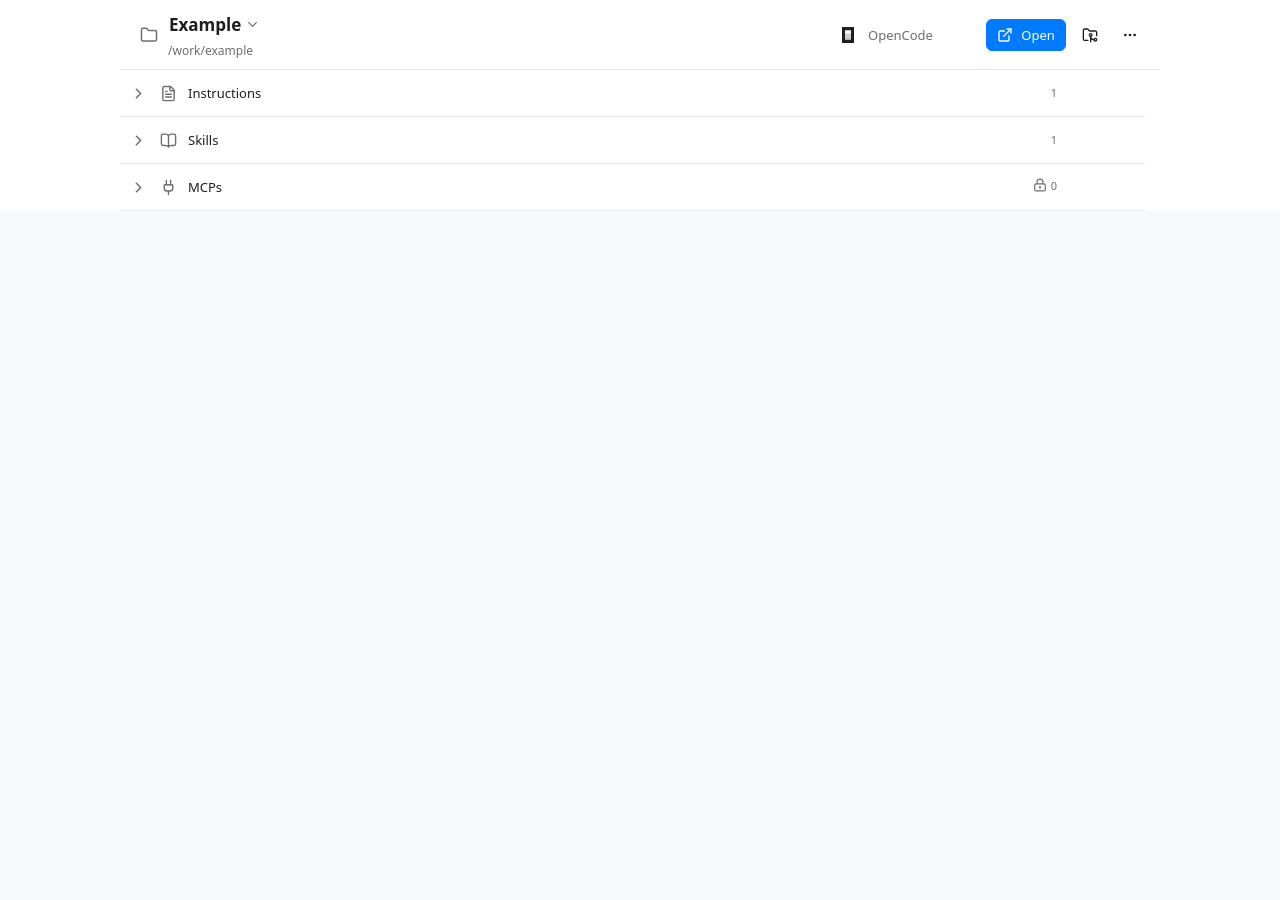
Test case: ProjectsWorkspace › opens the same Project actions from a row context menu and dismisses with Escape
Click the button with aria-label "Choose Workspace" at (216, 24), box [168,10,264,38]
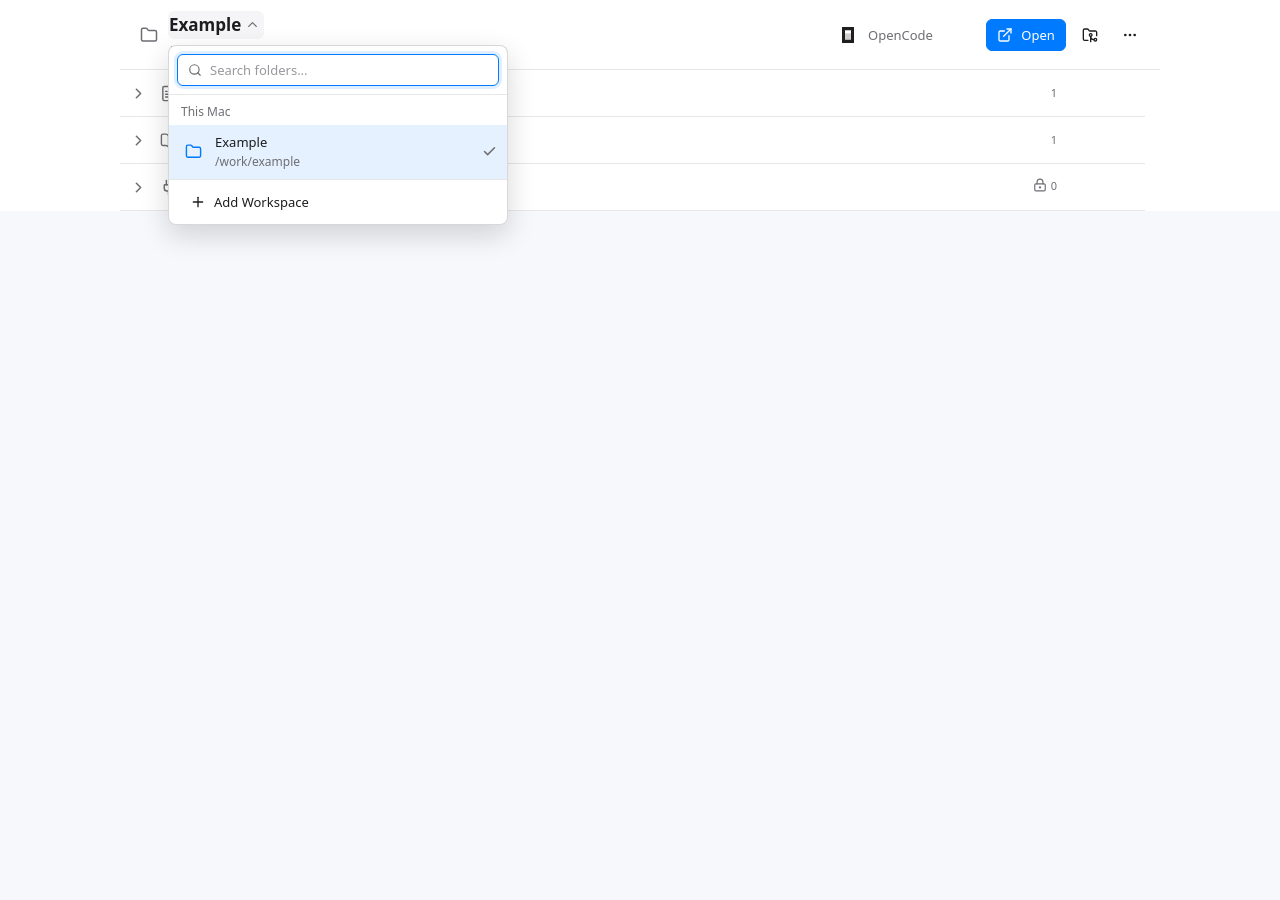
Right-click the option "Example /work/example" at (241, 142), box [169,124,507,178]
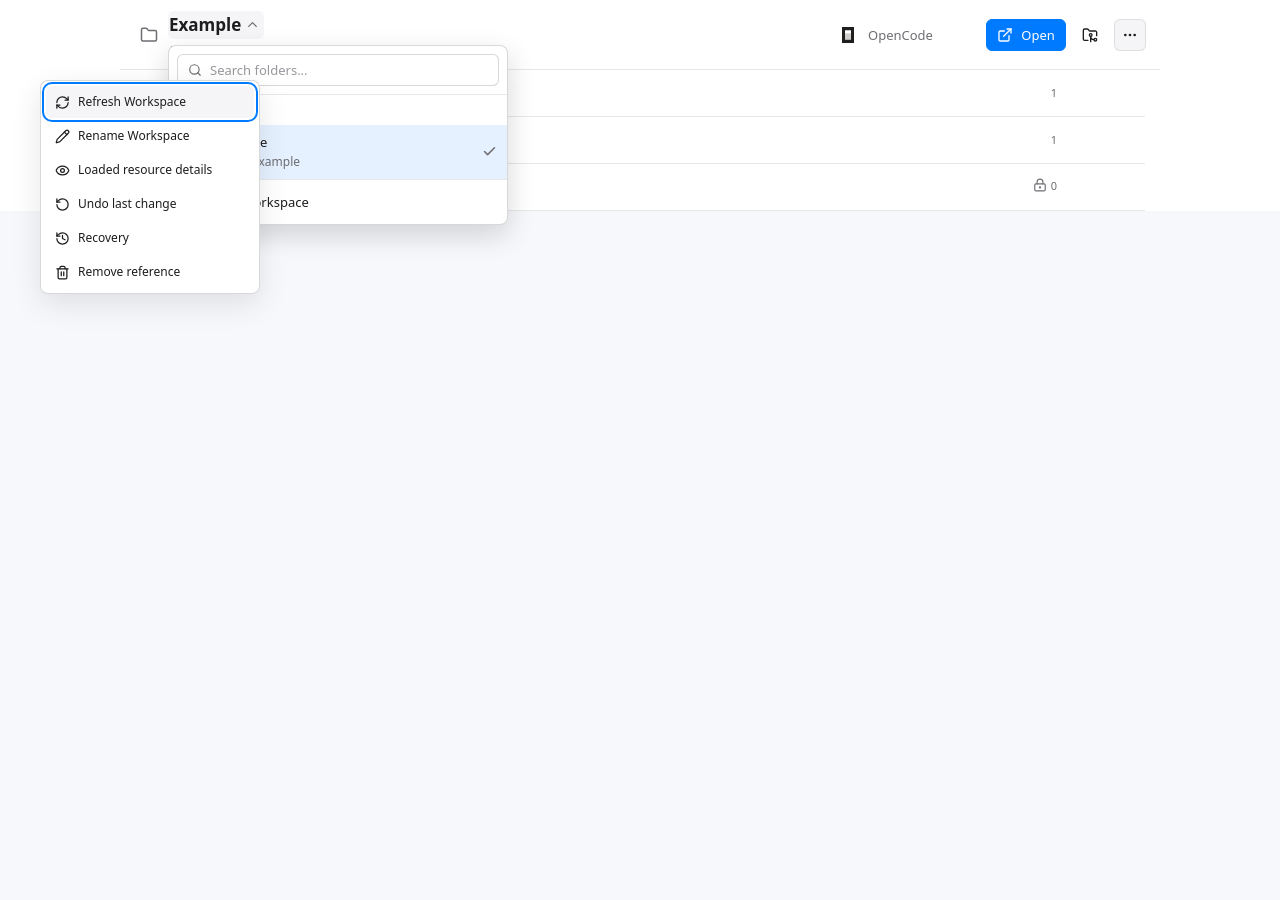
expect the menu item "Undo last change" is shown: met, box [46,188,254,220]
expect the menu item "Recovery" is shown: met, box [46,222,254,254]
Press Escape
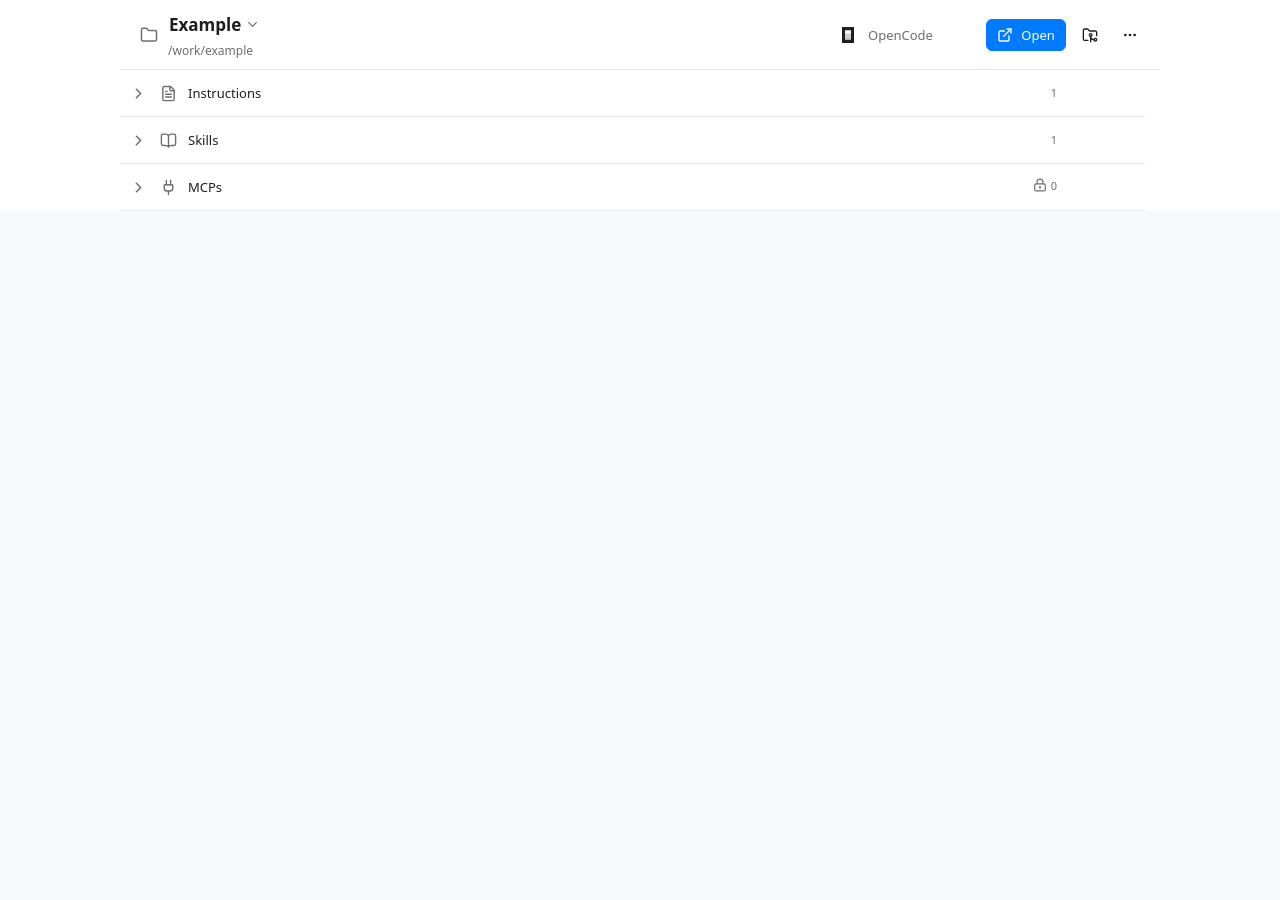
expect the menu item "Recovery" is gone: met
